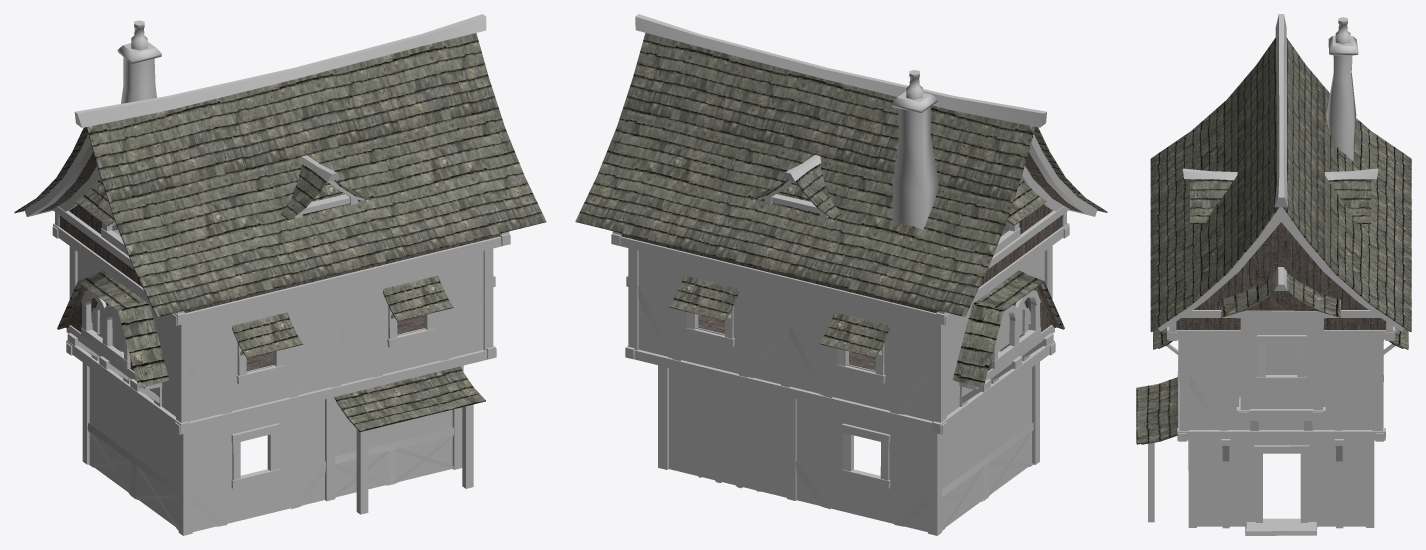
Rendered from mw_type_1_cottage_03_LOD1.FBX.
3 renders of one model, left to right at view 1: azimuth 30°, elevation 25°; view 2: azimuth 150°, elevation 25°; view 3: azimuth 270°, elevation 25°, orthographic. The views are drawn at different scales.
Parts seen in each view (by area): view 1: mw_type_1_cottage_03_roof, mw_type_1_cottage_03_wood, mw_type_1_cottage_03_stone; view 2: mw_type_1_cottage_03_roof, mw_type_1_cottage_03_stone, mw_type_1_cottage_03_wood; view 3: mw_type_1_cottage_03_roof, mw_type_1_cottage_03_wood, mw_type_1_cottage_03_stone.
Part boxes in pixels (left/top/right/bottom): mw_type_1_cottage_03_roof: left=14, top=33, right=546, bottom=431; mw_type_1_cottage_03_wood: left=24, top=14, right=510, bottom=535; mw_type_1_cottage_03_stone: left=77, top=20, right=483, bottom=531; mw_type_1_cottage_03_roof: left=575, top=33, right=1107, bottom=388; mw_type_1_cottage_03_stone: left=638, top=70, right=1044, bottom=531; mw_type_1_cottage_03_wood: left=611, top=14, right=1097, bottom=535; mw_type_1_cottage_03_roof: left=1136, top=38, right=1411, bottom=444; mw_type_1_cottage_03_wood: left=1141, top=14, right=1404, bottom=528; mw_type_1_cottage_03_stone: left=1189, top=17, right=1372, bottom=535.
Size of what is drawn, in the model's own units: 1399 by 1416 by 878.
